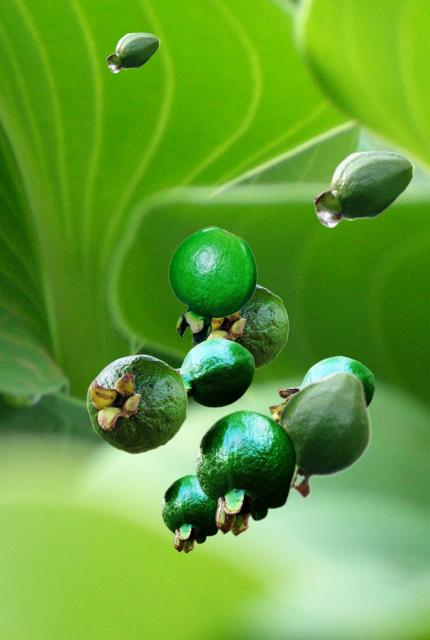guava: (195, 409, 296, 535), (275, 369, 370, 499), (168, 226, 256, 344), (86, 354, 187, 453), (313, 150, 414, 227), (269, 355, 374, 420), (209, 284, 288, 370), (176, 337, 254, 407), (161, 474, 218, 552), (106, 32, 159, 72)
